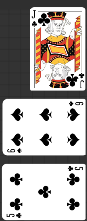4C: (66, 165, 84, 173)
JC: (30, 10, 38, 29), (77, 72, 85, 89)
